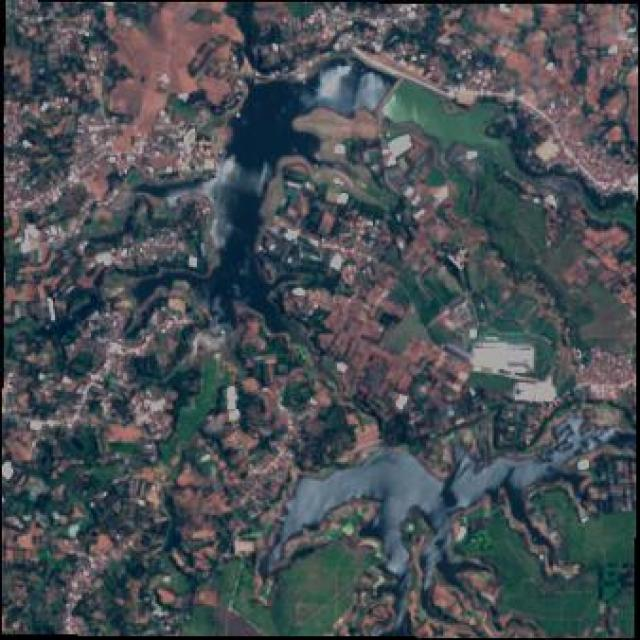methane: (282, 449, 439, 574), (447, 420, 612, 507), (301, 62, 392, 114)
old_road: (352, 45, 636, 197)
water: (210, 80, 318, 328)
